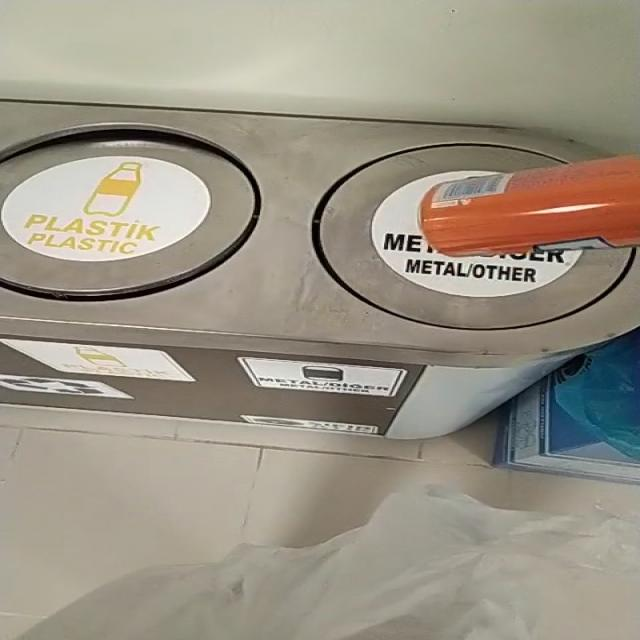bin: (0, 104, 639, 440)
metal: (421, 156, 640, 256)
